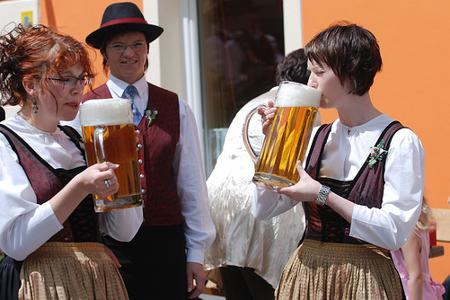person: (250, 22, 427, 300)
